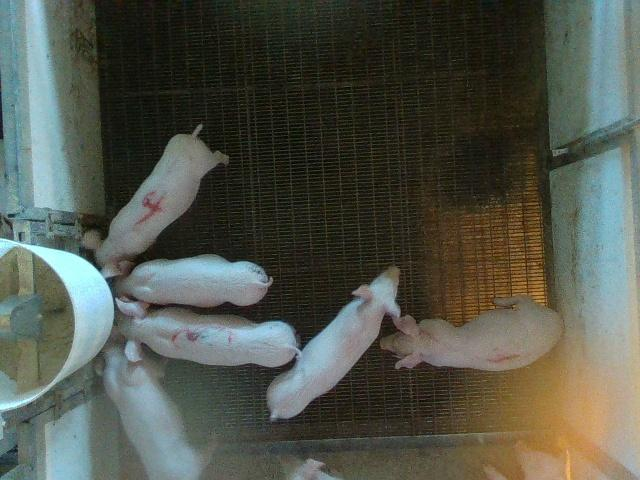pig-1: (380, 296, 561, 371)
pig-3: (116, 298, 300, 367)
pig-4: (81, 125, 229, 268)
